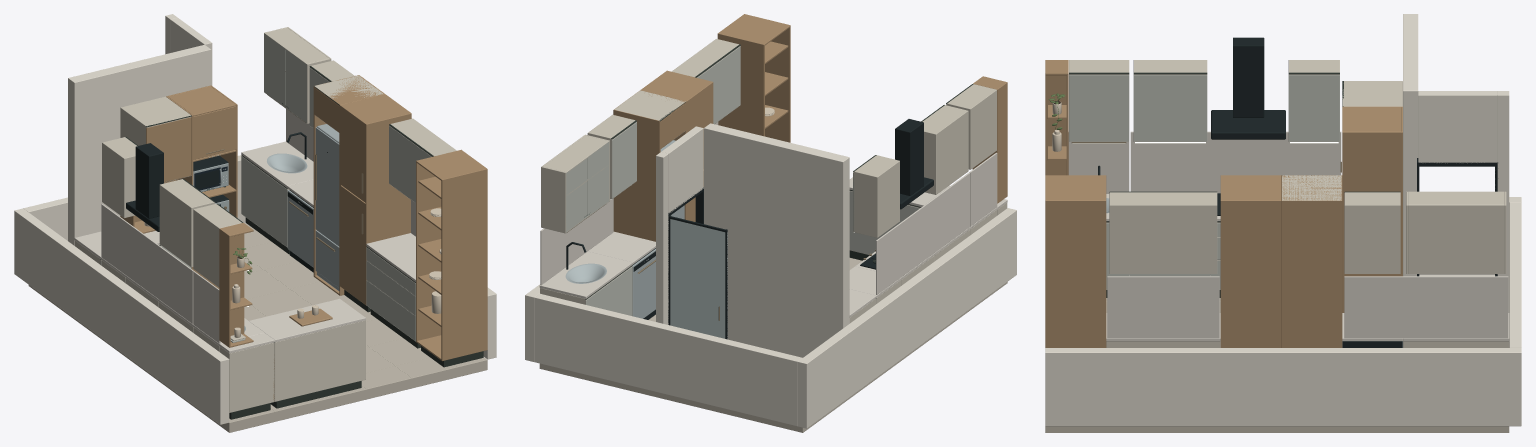
Rendered from configurator-cabinet-16e50156268e.glb.
The picture shows the model from 3 angles, left to right: view 1: azimuth 30°, elevation 25°; view 2: azimuth 150°, elevation 25°; view 3: azimuth 270°, elevation 25°; orthographic projection. The views are drawn at different scales.
Visible parts, largest first — view 1: Surface 10, Surface 3, Surface 7, Surface 2, Surface 1, Surface 9, Surface 11, Surface 4, Surface 8, Surface 14; view 2: Surface 3, Surface 7, Surface 10, Surface 2, Surface 9, Surface 5, Surface 4, Surface 1, Surface 11, Surface 8; view 3: Surface 3, Surface 10, Surface 2, Surface 7, Surface 9, Surface 4, Surface 1, Surface 8.
Part boxes in pixels (x1,y1,x2,y2): Surface 10: (120, 75, 487, 400); Surface 3: (14, 14, 496, 424); Surface 7: (75, 27, 456, 412); Surface 2: (74, 109, 415, 353); Surface 1: (28, 223, 487, 432); Surface 9: (100, 33, 431, 342); Surface 11: (193, 124, 339, 331); Surface 4: (126, 132, 327, 272); Surface 8: (100, 66, 483, 419); Surface 14: (144, 208, 441, 337); Surface 3: (525, 123, 1016, 428); Surface 7: (540, 39, 1007, 323); Surface 10: (613, 14, 1007, 241); Surface 2: (539, 122, 1007, 317); Surface 9: (566, 46, 947, 316); Surface 5: (670, 219, 727, 338); Surface 4: (566, 119, 933, 339); Surface 1: (539, 258, 1007, 432); Surface 11: (565, 140, 684, 318); Surface 8: (585, 44, 973, 299); Surface 3: (1045, 14, 1521, 426); Surface 10: (1045, 60, 1402, 347); Surface 2: (1068, 131, 1509, 341); Surface 7: (1069, 60, 1509, 347); Surface 9: (1069, 75, 1339, 289); Surface 4: (1098, 37, 1497, 347); Surface 1: (1045, 298, 1509, 432); Surface 8: (1069, 72, 1400, 297).
Size of the model in its own units: 3.64 by 2.98 by 4.7.
